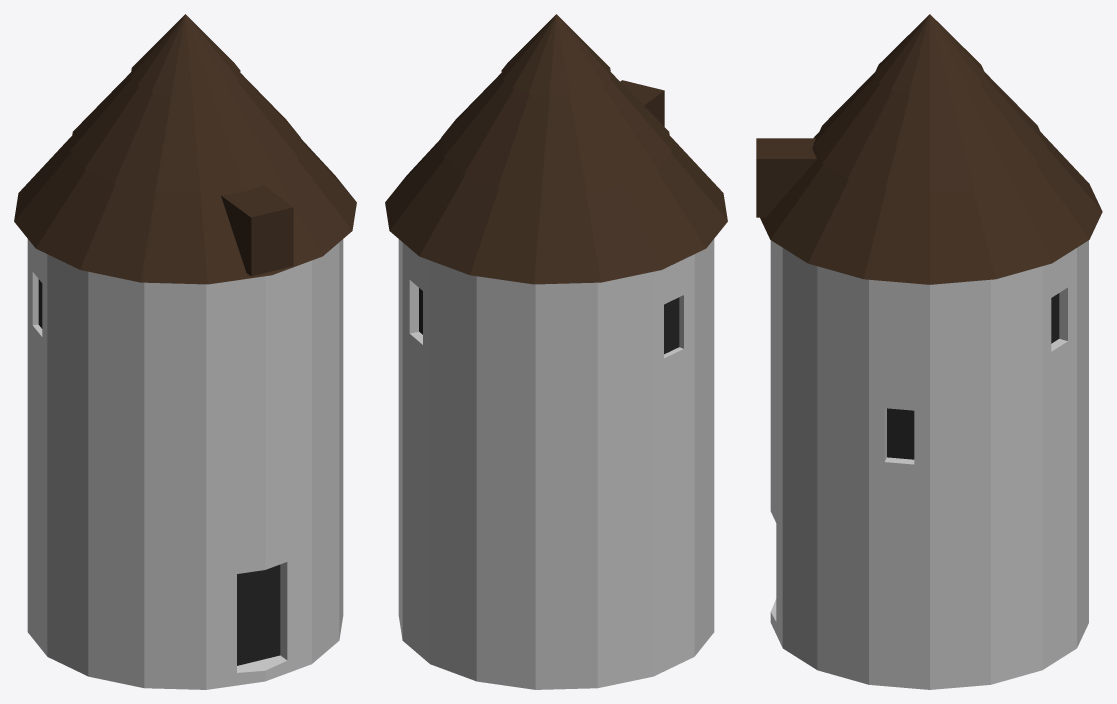
File: windmill_3_mat.fbx
3 renders of one model, left to right at view 1: azimuth 30°, elevation 25°; view 2: azimuth 150°, elevation 25°; view 3: azimuth 270°, elevation 25°, orthographic.
Parts seen in each view (by area): view 1: windmill_3_mat; view 2: windmill_3_mat; view 3: windmill_3_mat.
Part boxes in pixels (<box>): windmill_3_mat: <box>14,14,356,689</box>; windmill_3_mat: <box>385,14,727,689</box>; windmill_3_mat: <box>756,14,1102,689</box>.
Size of the model in its own units: 244 by 475 by 245.
